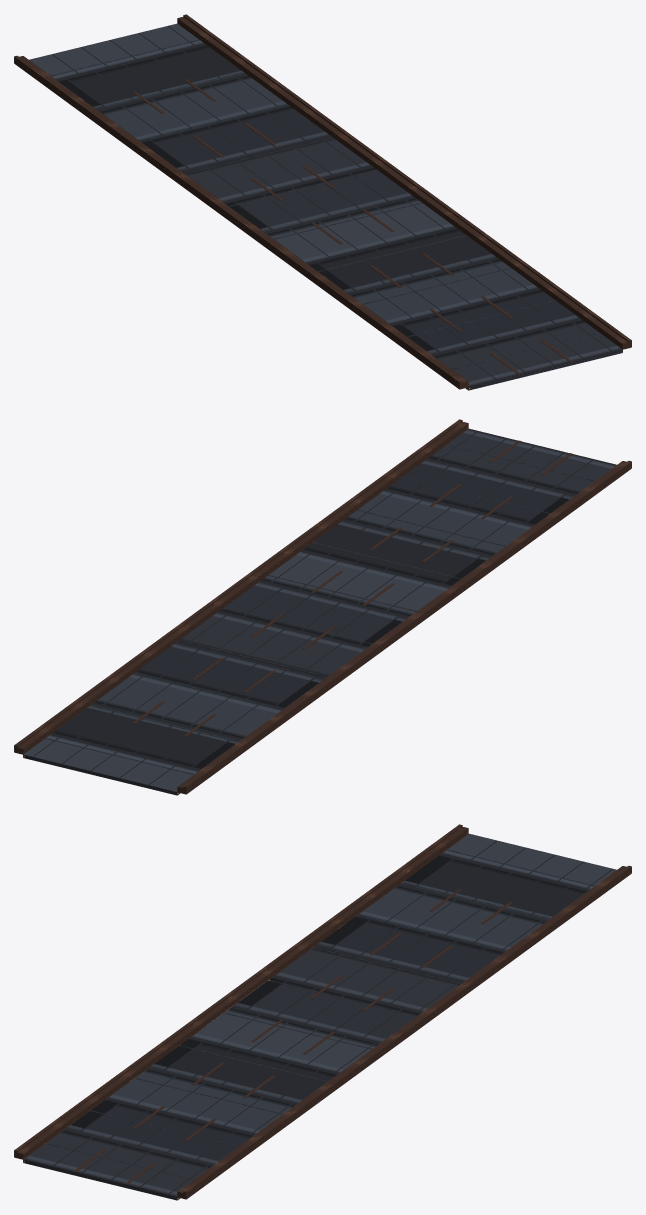
Rendered from kathmandu_road_tile.glb.
3 views of the same model, one above another, from view 1: azimuth 30°, elevation 25°; view 2: azimuth 150°, elevation 25°; view 3: azimuth 330°, elevation 25° (orthographic).
Visible parts, largest first — view 1: RoadTile_Root; view 2: RoadTile_Root; view 3: RoadTile_Root.
Boxes of the visible parts, x1=… form: RoadTile_Root: x1=14, y1=14, x2=631, y2=390; RoadTile_Root: x1=14, y1=419, x2=631, y2=795; RoadTile_Root: x1=14, y1=824, x2=631, y2=1200.
Bounding box in the file's own units: 6.72 × 0.3936 × 30.02.
Materials: 2 (1 with a texture image).
